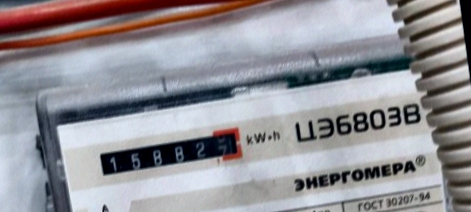1: (108, 151, 120, 171)
2: (195, 137, 208, 157)
5: (130, 149, 143, 168)
7: (218, 141, 230, 154)
8: (173, 141, 187, 161), (151, 145, 165, 164)
screen: (91, 121, 250, 182)
